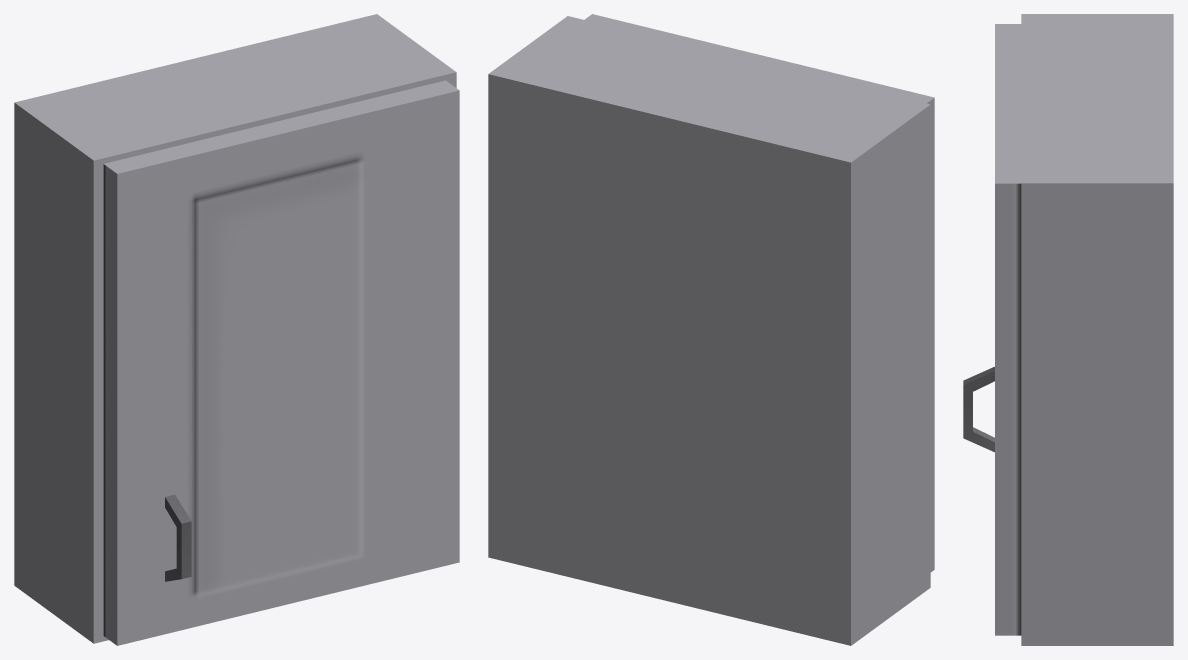
File: Cupboard_5_2.fbx
3 renders of one model, left to right at view 1: azimuth 30°, elevation 25°; view 2: azimuth 150°, elevation 25°; view 3: azimuth 270°, elevation 25°, orthographic. The views are drawn at different scales.
Visible parts, largest first — view 1: polySurface1571; view 2: polySurface1571; view 3: polySurface1571.
Part boxes in pixels (left/top/right/bottom): polySurface1571: left=14, top=14, right=459, bottom=645; polySurface1571: left=488, top=14, right=934, bottom=645; polySurface1571: left=963, top=14, right=1173, bottom=645.
Size of the model in its own units: 0.918 by 1.17 by 0.4813.
